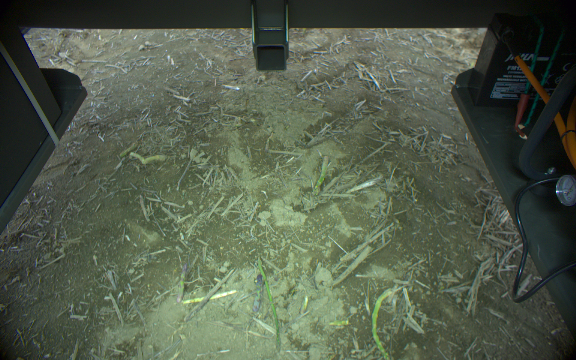aspa: (257, 255, 282, 352), (369, 285, 395, 360), (180, 287, 237, 307), (311, 154, 330, 202), (129, 151, 168, 167), (252, 270, 266, 314), (177, 260, 188, 305), (118, 143, 139, 157)
